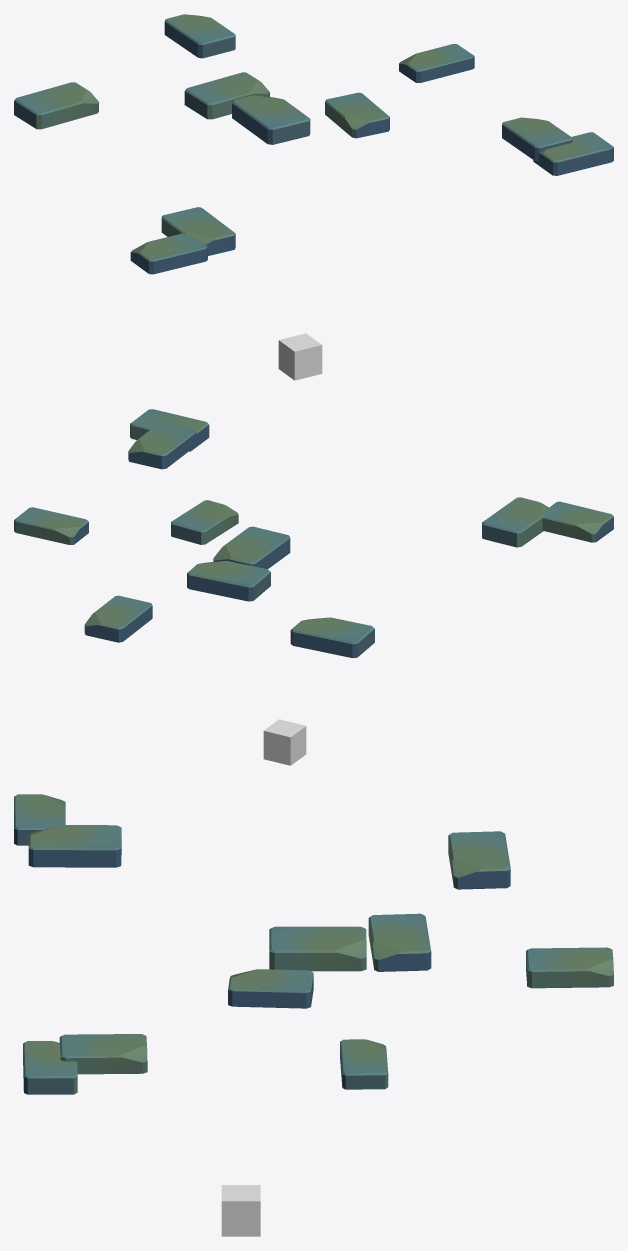
The model's file is battlescence-3-floor012.fbx.
3 renders of one model, top to bottom at view 1: azimuth 30°, elevation 25°; view 2: azimuth 150°, elevation 25°; view 3: azimuth 270°, elevation 25°, orthographic. The views are drawn at different scales.
Parts seen in each view (by area): view 1: Cube.069, Cube.074, Cube.078, Cube.080, Cube.085, Cube.089, Cube.084, Cube.072, Cube.068, Cube.087, battlescence-3-floor012; view 2: Cube.074, Cube.078, Cube.084, Cube.087, Cube.080, Cube.069, Cube.085, Cube.072, Cube.068, battlescence-3-floor012, Cube.089; view 3: Cube.069, Cube.084, Cube.080, Cube.078, Cube.074, Cube.087, Cube.072, Cube.089, Cube.068, battlescence-3-floor012, Cube.085.
Part boxes in pixels (x1,y1,x2,y2): Cube.069: (232, 95, 310, 144); Cube.074: (14, 82, 98, 129); Cube.078: (184, 72, 269, 119); Cube.080: (164, 14, 235, 58); Cube.085: (130, 233, 207, 274); Cube.089: (533, 132, 613, 175); Cube.084: (161, 207, 235, 255); Cube.072: (325, 92, 389, 138); Cube.068: (399, 44, 474, 82); Cube.087: (502, 117, 572, 161); battlescence-3-floor012: (278, 333, 322, 380); Cube.074: (290, 617, 374, 658); Cube.078: (187, 560, 270, 601); Cube.084: (482, 497, 548, 547); Cube.087: (128, 422, 196, 469); Cube.080: (84, 595, 152, 642); Cube.069: (213, 526, 290, 569); Cube.085: (542, 501, 613, 542); Cube.072: (171, 500, 238, 544); Cube.068: (14, 507, 88, 544); battlescence-3-floor012: (263, 719, 306, 765); Cube.089: (130, 409, 209, 451); Cube.069: (269, 926, 366, 971); Cube.084: (28, 825, 121, 867); Cube.080: (526, 947, 613, 988); Cube.078: (368, 913, 431, 971); Cube.074: (448, 831, 510, 889); Cube.087: (59, 1034, 147, 1074); Cube.072: (228, 969, 313, 1008); Cube.089: (23, 1041, 77, 1094); Cube.068: (340, 1039, 388, 1089); battlescence-3-floor012: (221, 1185, 260, 1236); Cube.085: (14, 794, 65, 845).
Bounding box in the file's own units: 2013 × 977 × 1825.
